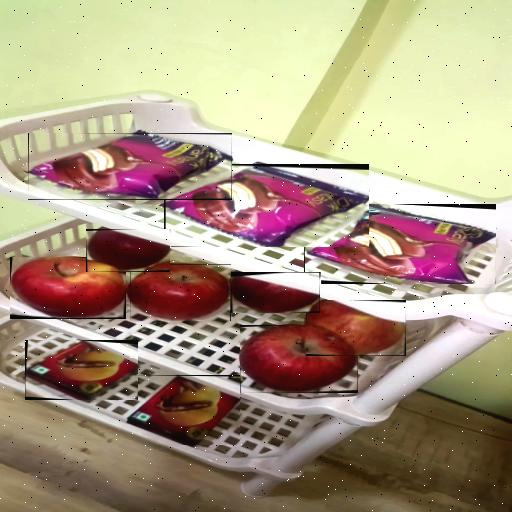Apple: (240, 325, 358, 393), (10, 257, 126, 319), (130, 264, 231, 321), (306, 300, 406, 356), (231, 272, 320, 313), (86, 229, 170, 272)
Choco Fills: (130, 375, 240, 445), (25, 340, 138, 400)
Choco Pie: (164, 164, 369, 247), (304, 204, 496, 284), (28, 133, 232, 200)
